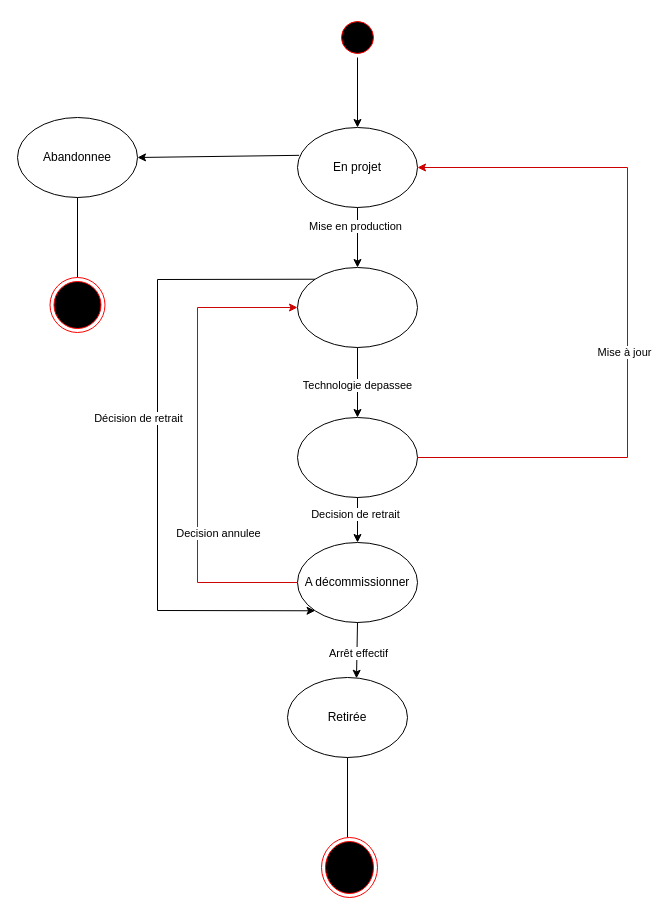
Image size: 668x915. Some labels were removed from this diagram. The centre of each missing label's shape, as x and y in pixels:
"En service" belongs at point (357, 307).
"Obsolète" belongs at point (357, 457).
